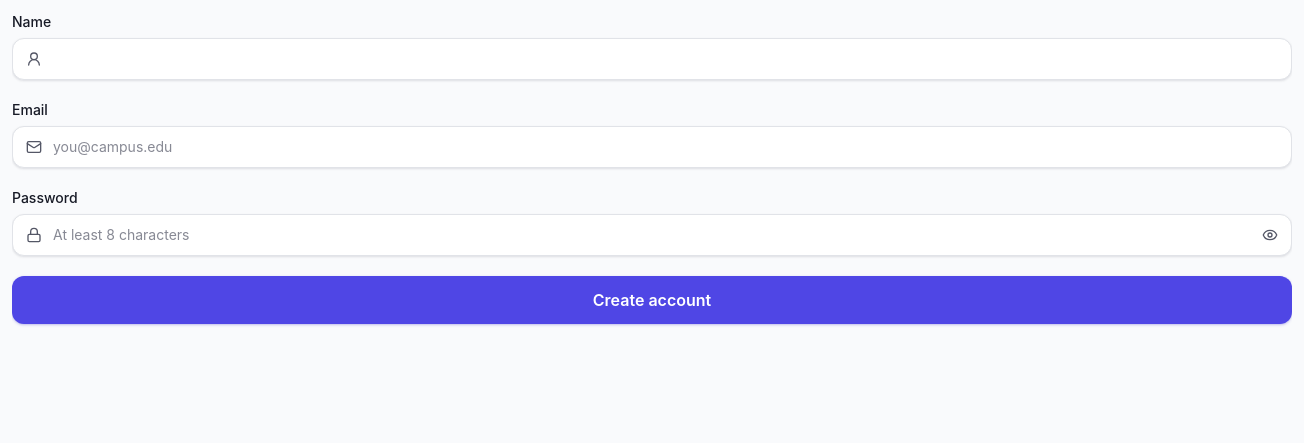
Test case: RegistrationForm validation › shows the server error when the email is taken
The width and height of the screenshot is (1304, 443).
Type "Asha" into the field labelled "Name" at [652, 59], box [12,38,1292,80]
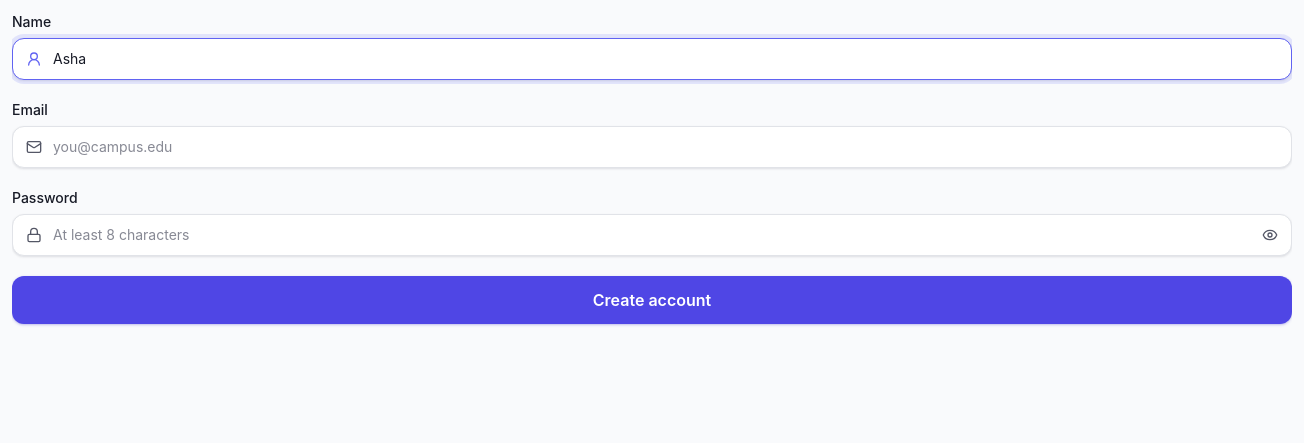
Type "asha@campus.edu" into the field labelled "Email" at [652, 147], box [12,126,1292,168]
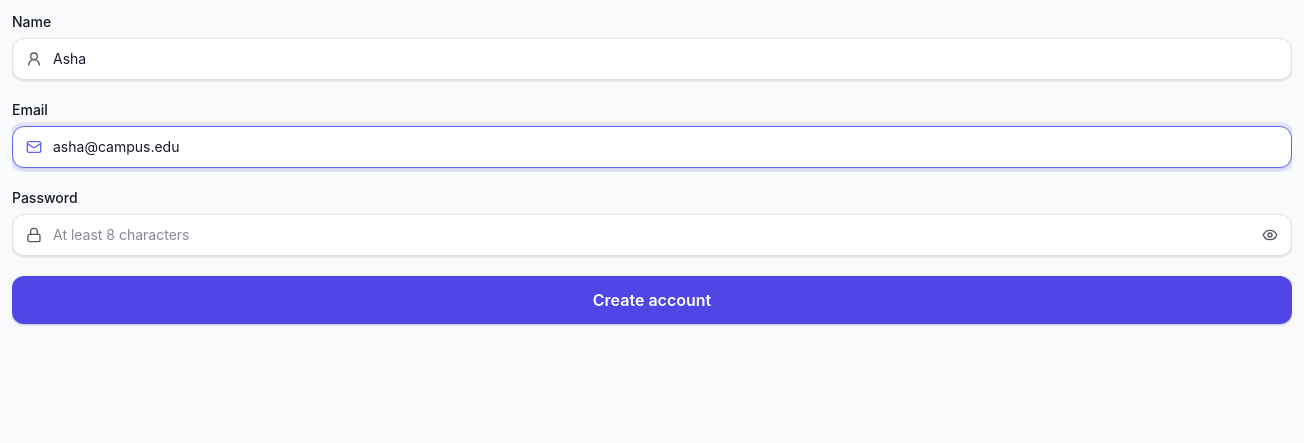
Type "longenough1" into the password field labelled "Password" at [652, 235], box [12,214,1292,256]
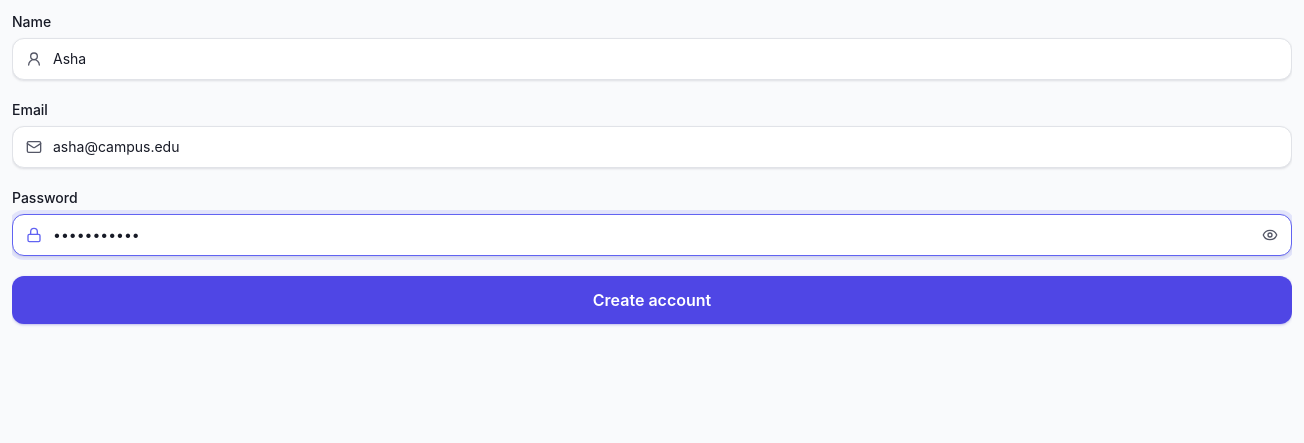
Click the button "Create account" at [652, 300], box [12,276,1292,324]
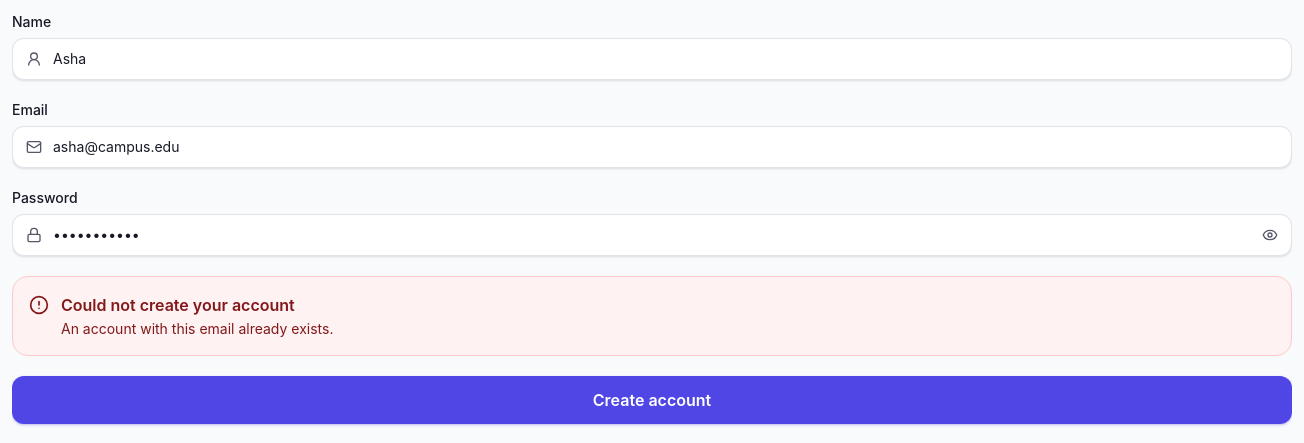
Expected: the message shows "already exists", [61,320,334,337]
